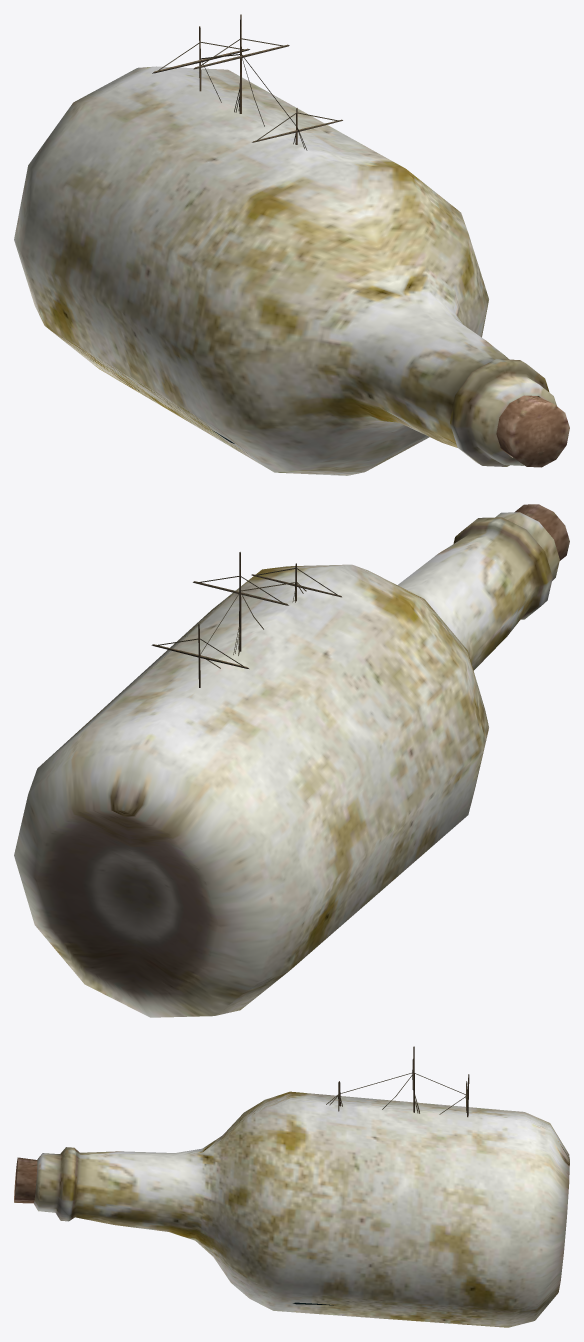
File: Bottle_Ship07.fbx
The picture shows the model from 3 angles, top to bottom: view 1: azimuth 30°, elevation 25°; view 2: azimuth 150°, elevation 25°; view 3: azimuth 270°, elevation 25°; orthographic projection. The views are drawn at different scales.
Visible parts, largest first — view 1: bottle_02, bottle_cap_02, U_Ship_05; view 2: bottle_02, U_Ship_05, bottle_cap_02; view 3: bottle_02, bottle_cap_02, U_Ship_05.
Part boxes in pixels (x1,y1,x2,y2): bottle_02: (14,66,556,475); bottle_cap_02: (496,395,569,467); U_Ship_05: (152,14,342,150); bottle_02: (14,512,559,1017); U_Ship_05: (151,552,341,687); bottle_cap_02: (514,504,569,560); bottle_02: (34,1091,569,1327); bottle_cap_02: (14,1157,37,1203); U_Ship_05: (326,1046,469,1117).
Size of the model in its own units: 0.1876 by 0.255 by 0.4725.
